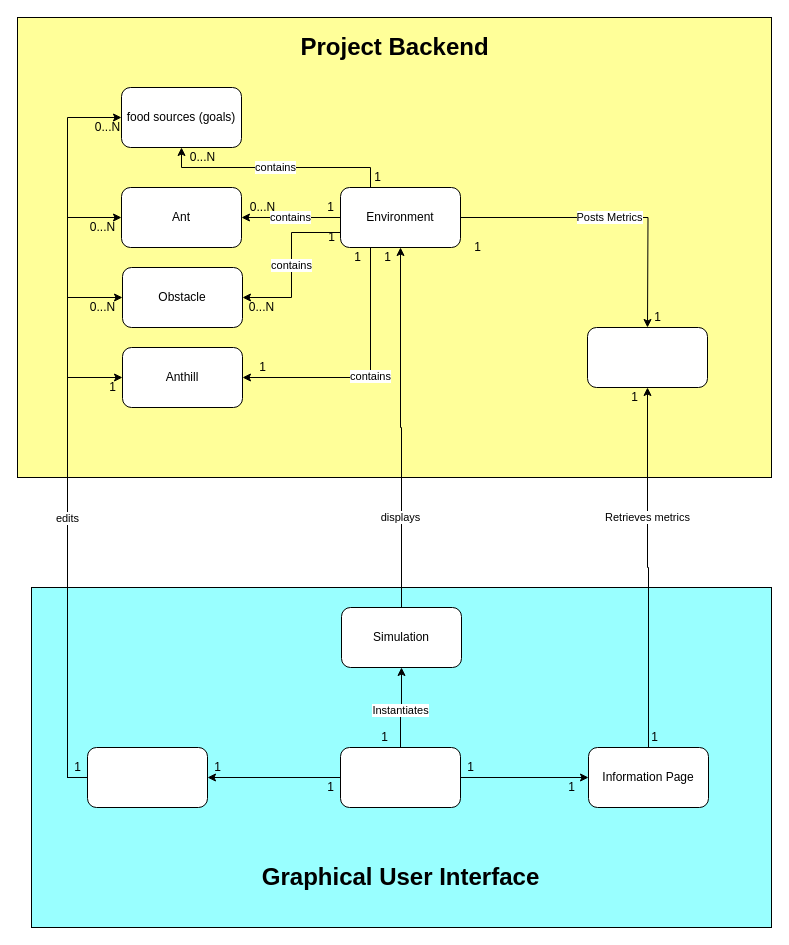
Image size: 789x945. Some labels were removed from this diagram. The centre of each missing label's shape, as x and y in pixels:
"Simulation Results" goes at [647,357].
"Simulation variable editing page" goes at [147,777].
"Welcome GUI" goes at [400,777].
